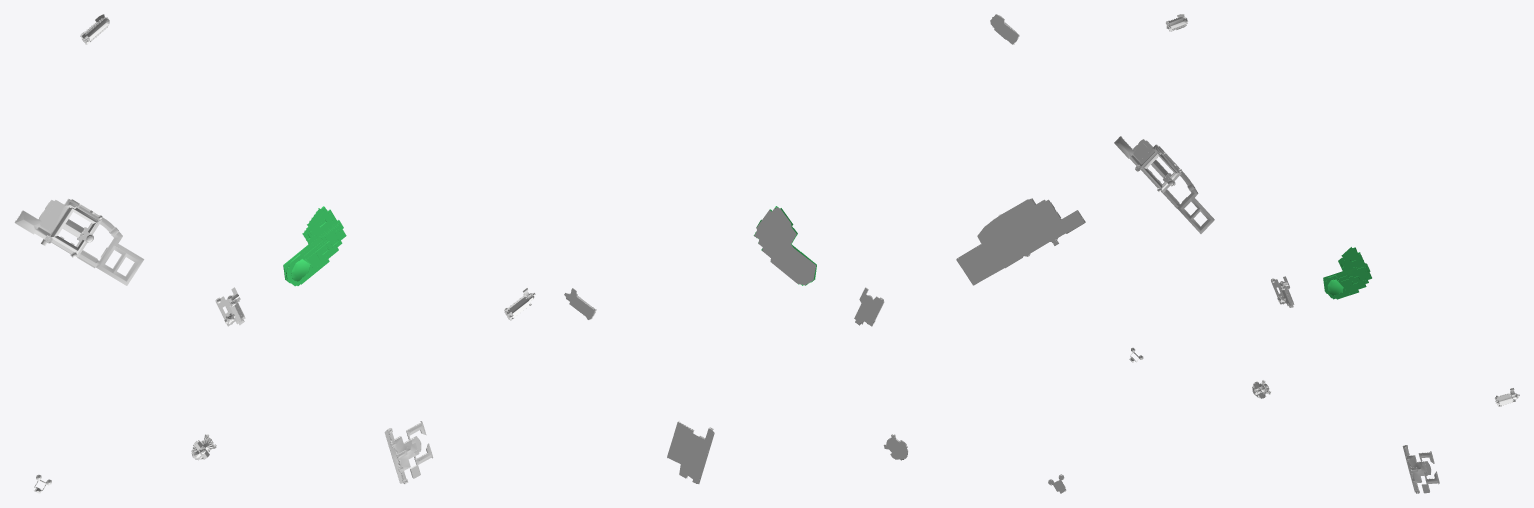
The picture shows the model from 3 angles, left to right: view 1: azimuth 30°, elevation 25°; view 2: azimuth 150°, elevation 25°; view 3: azimuth 330°, elevation 25°; orthographic projection. The views are drawn at different scales.
Bounding box in the file's own units: 6719 × 6689 × 93.87.
